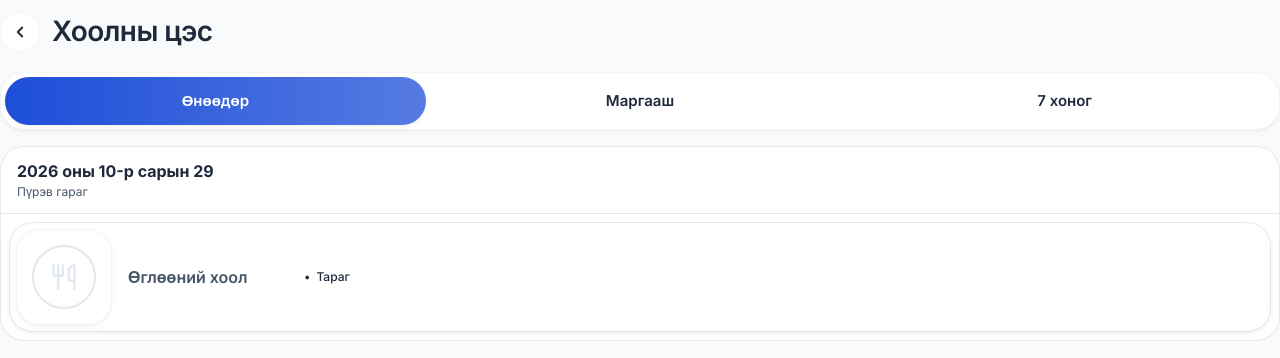
Test: the menu as a spreadsheet › ★ offers an admin neither the import nor the editor
Expected: the heading "Хоолны цэс" is shown, x1=52 y1=12 x2=212 y2=52
What coordinates should you click on to do the following:
click the tab "7 хоног"
I would click on:
 (1065, 101)
Its box is x1=854 y1=77 x2=1275 y2=125.
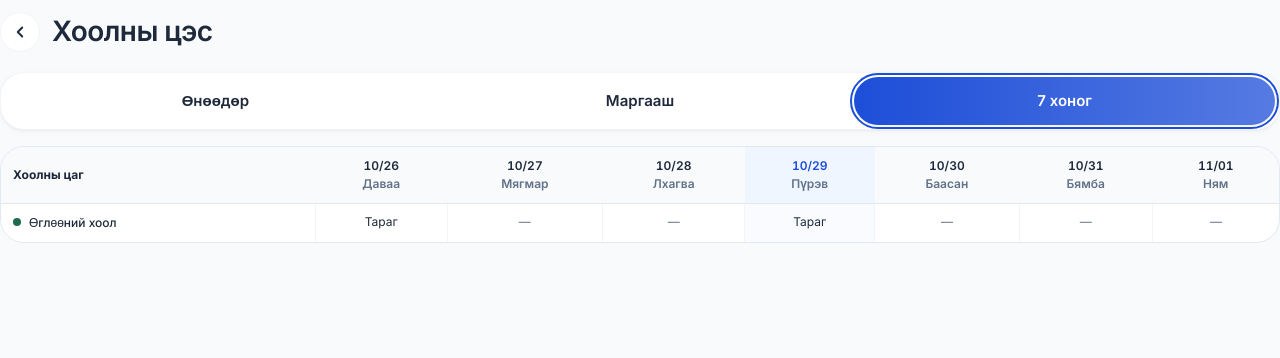
Now the panel named "7 хоног" is shown, box x1=0 y1=146 x2=1279 y2=243
